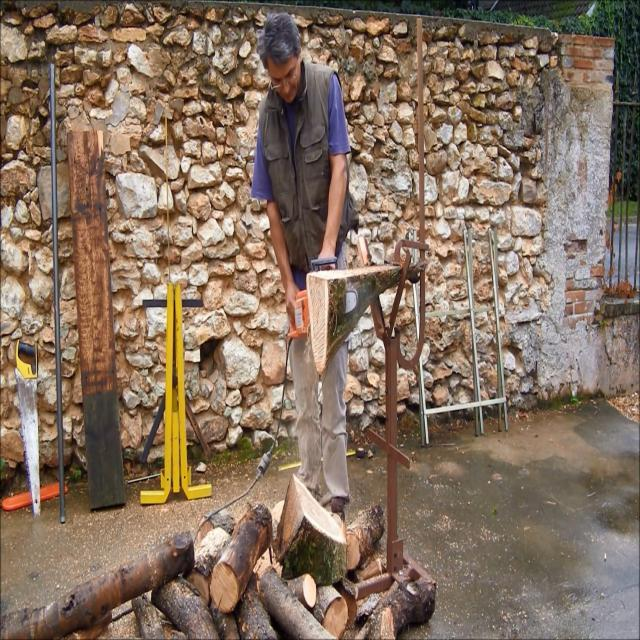Chainsaw: (276, 242, 378, 358)
